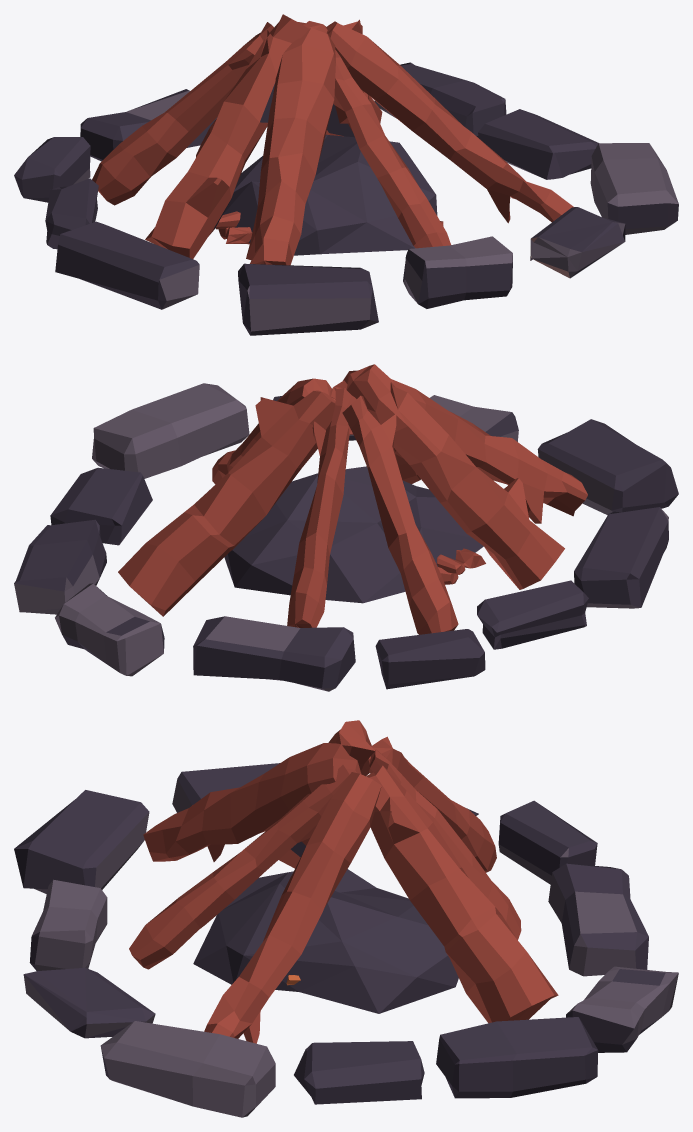
Rendered from Beach_FirePit.fbx.
3 views of the same model, one above another, from view 1: azimuth 30°, elevation 25°; view 2: azimuth 150°, elevation 25°; view 3: azimuth 270°, elevation 25° (orthographic). The views are drawn at different scales.
Visible parts, largest first — view 1: FirePit; view 2: FirePit; view 3: FirePit.
Part boxes in pixels (<box>): FirePit: <box>14,14,678,335</box>; FirePit: <box>14,364,678,691</box>; FirePit: <box>14,720,678,1117</box>.
Size of the model in its own units: 414 by 155 by 383.
